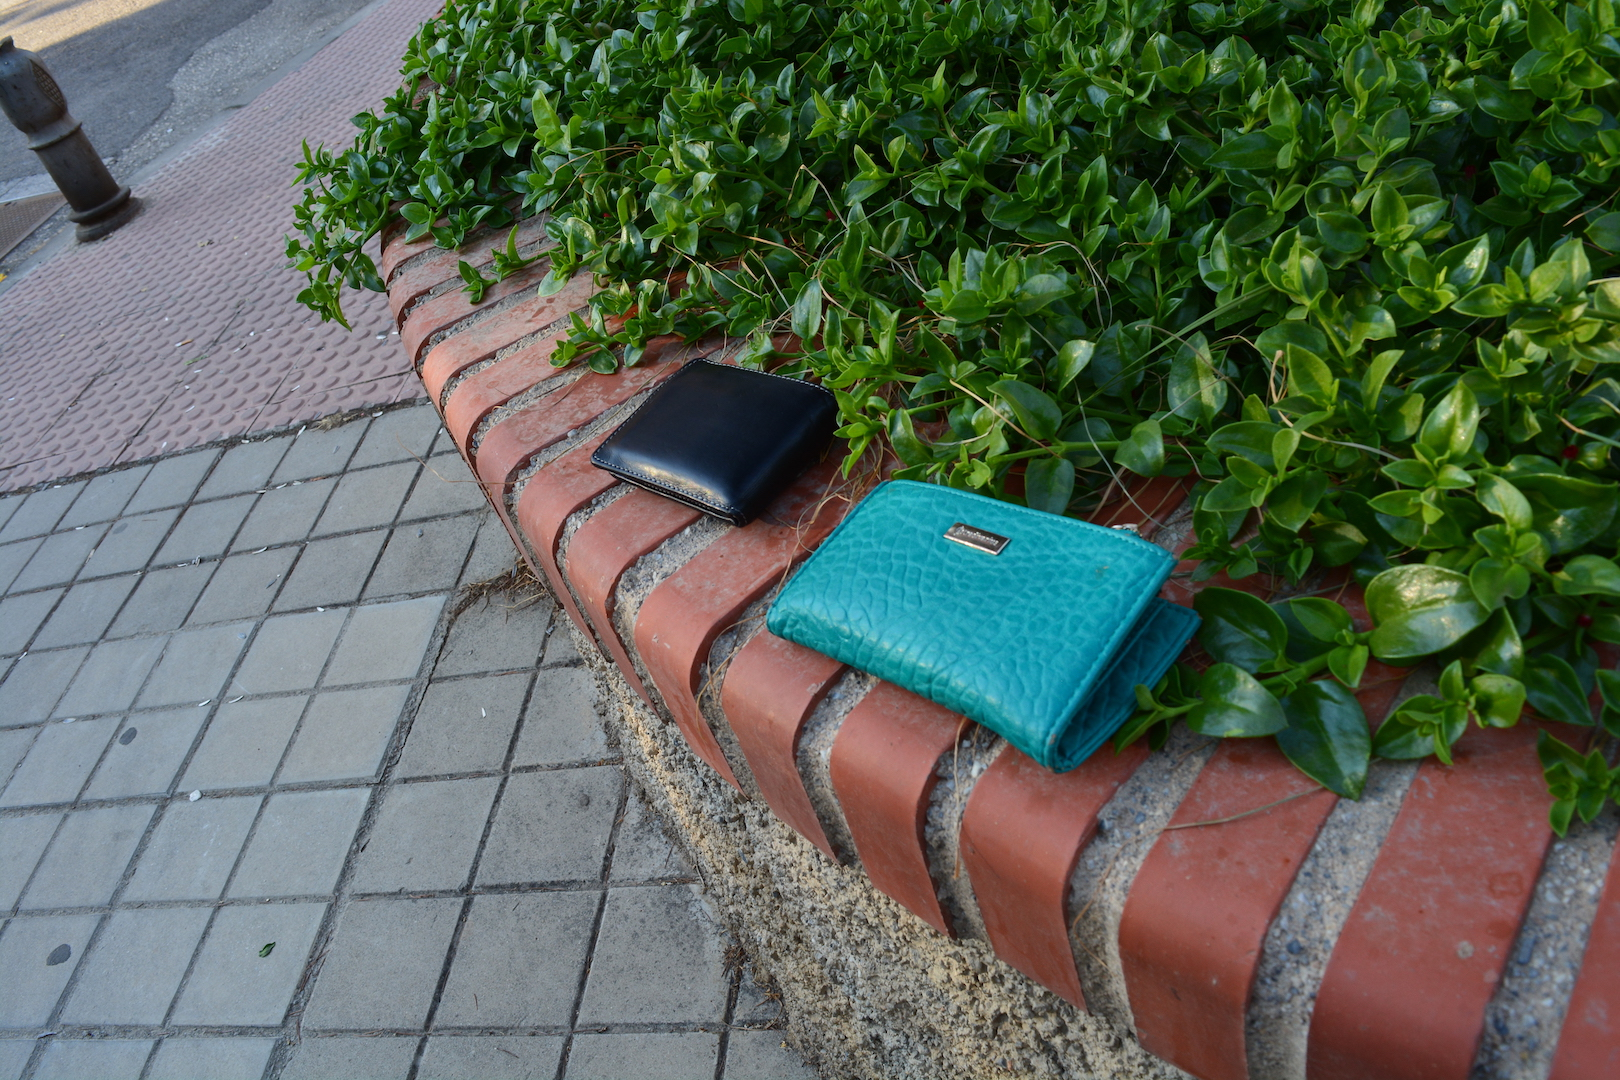monedero: (765, 480, 1204, 775), (589, 358, 843, 529)
